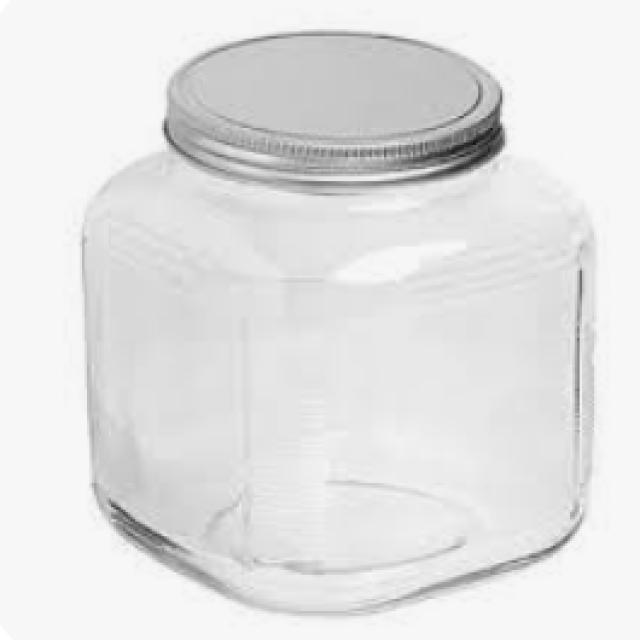ToplesKaca: (77, 24, 599, 616)
